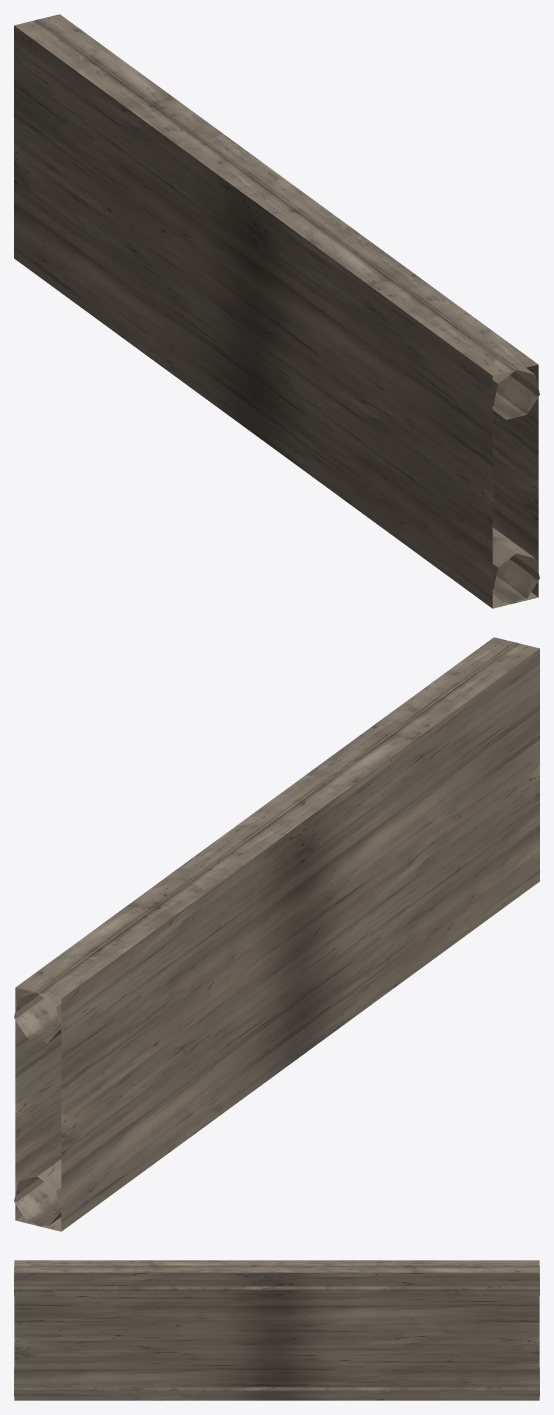
The model's file is Fence_Section.fbx.
3 renders of one model, top to bottom at view 1: azimuth 30°, elevation 25°; view 2: azimuth 150°, elevation 25°; view 3: azimuth 270°, elevation 25°, orthographic. The views are drawn at different scales.
Parts seen in each view (by area): view 1: Col, 2Leng, Leng; view 2: Col, 2Leng, Leng; view 3: Col, 2Leng, Leng.
Boxes of the visible parts, bbox=[...] form: Col: bbox=[14, 14, 538, 608]; 2Leng: bbox=[37, 19, 539, 419]; Leng: bbox=[492, 527, 539, 603]; Col: bbox=[15, 637, 539, 1231]; 2Leng: bbox=[14, 642, 516, 1042]; Leng: bbox=[14, 1150, 61, 1226]; Col: bbox=[14, 1260, 539, 1400]; 2Leng: bbox=[14, 1266, 539, 1295]; Leng: bbox=[14, 1367, 539, 1395].
Size of the model in its own units: 0.1478 by 0.6985 by 2.6.
1 material, 1 textured.
